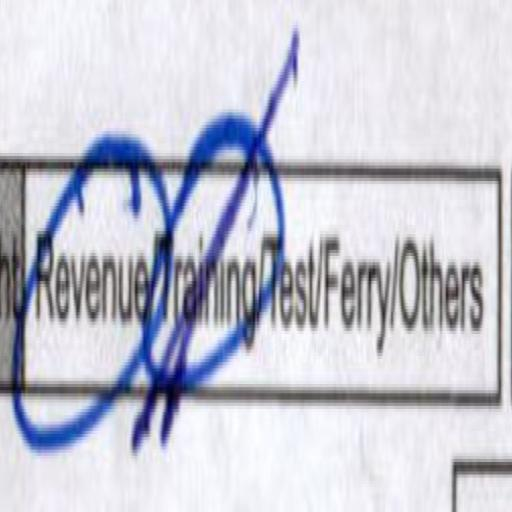check: (8, 79, 154, 502), (155, 74, 260, 486)
